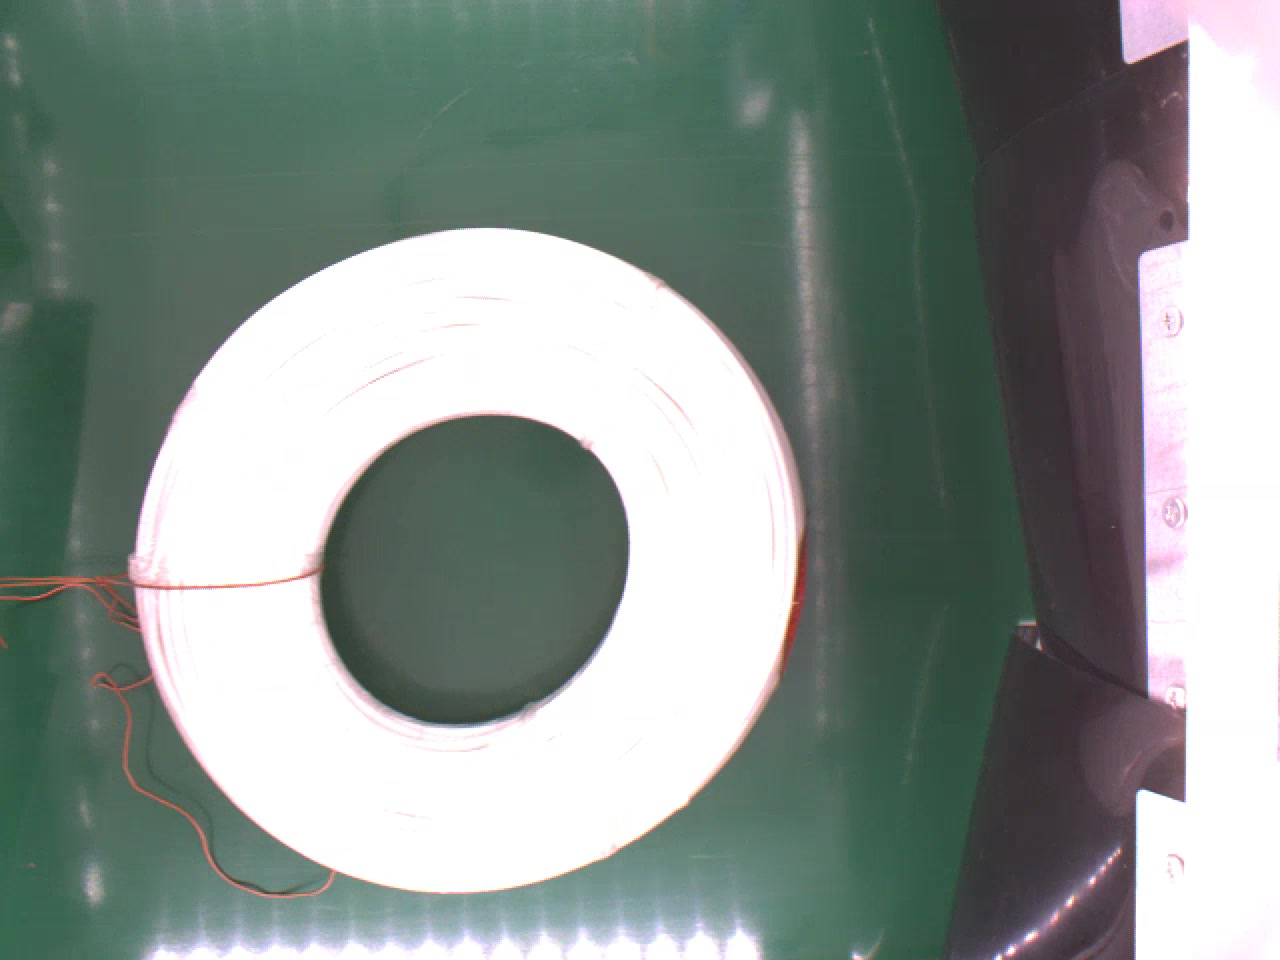white: (126, 225, 801, 893)
